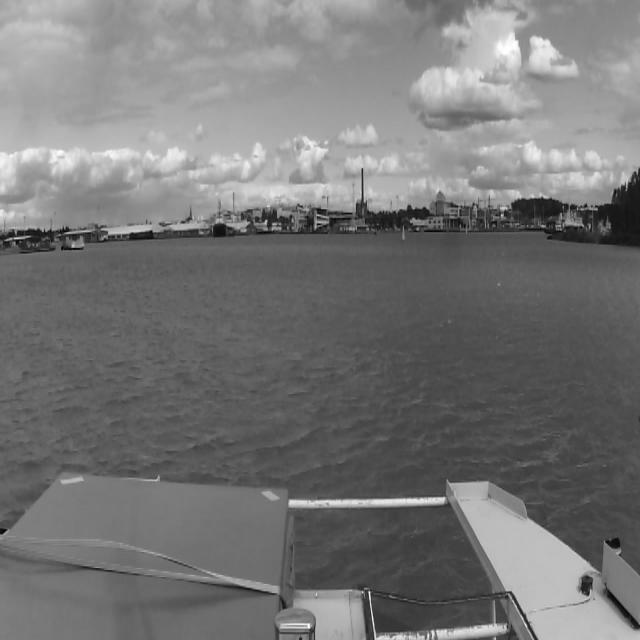buoy: (402, 223, 406, 243), (465, 226, 467, 234)
ship: (542, 194, 586, 228), (212, 194, 226, 239)
